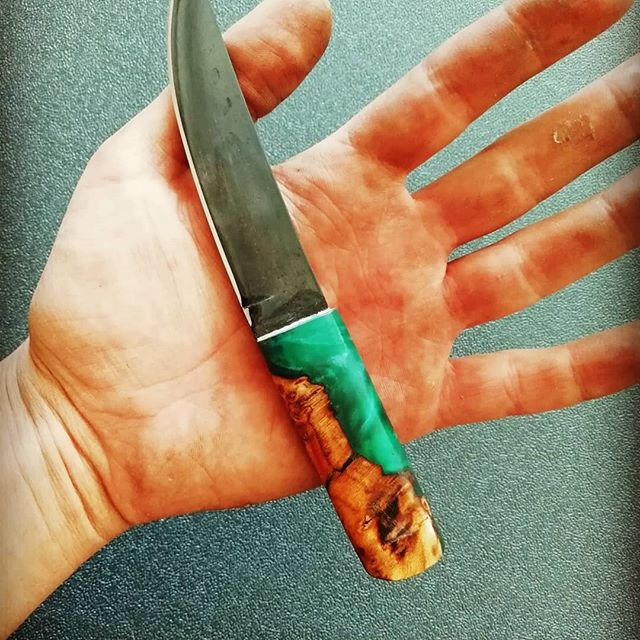knife: (168, 1, 444, 580)
